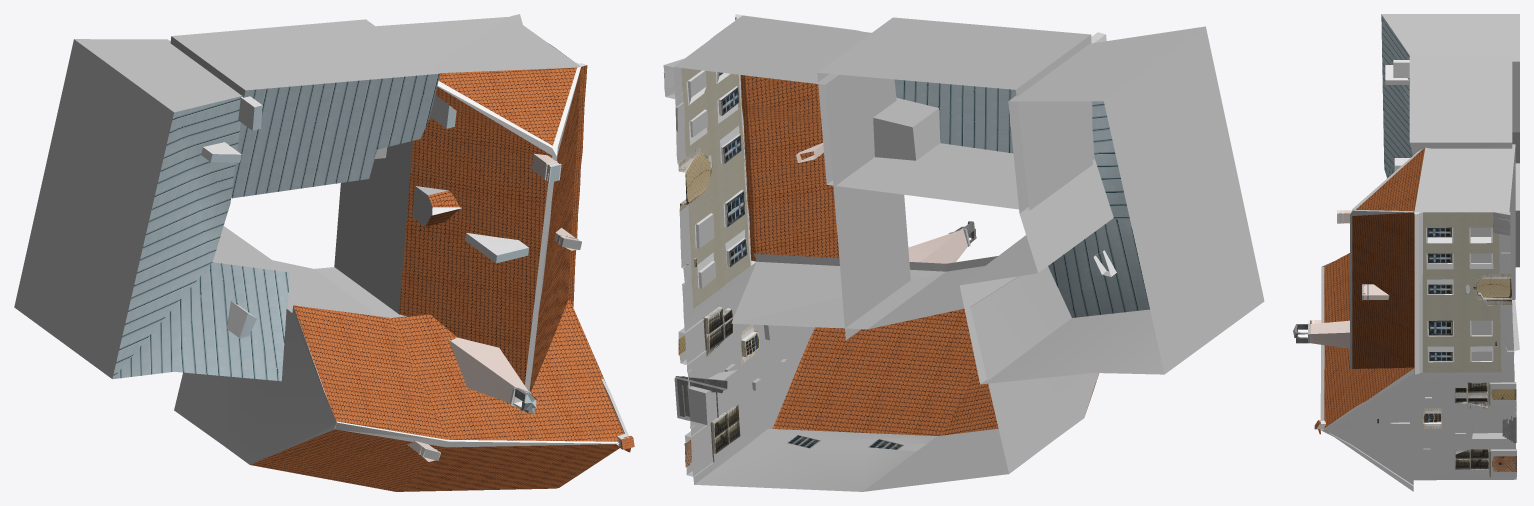
File: Ryytli_16-origo.obj
3 renders of one model, left to right at view 1: azimuth 30°, elevation 25°; view 2: azimuth 150°, elevation 25°; view 3: azimuth 270°, elevation 25°, orthographic. The views are drawn at different scales.
Visible parts, largest first — view 1: Ryytli_16; view 2: Ryytli_16; view 3: Ryytli_16.
Boxes of the visible parts, x1,y1,x2,y2 form: Ryytli_16: [14, 14, 634, 491]; Ryytli_16: [663, 14, 1264, 491]; Ryytli_16: [1293, 14, 1519, 491].
Bounding box in the file's own units: 33.94 × 32 × 19.34.
